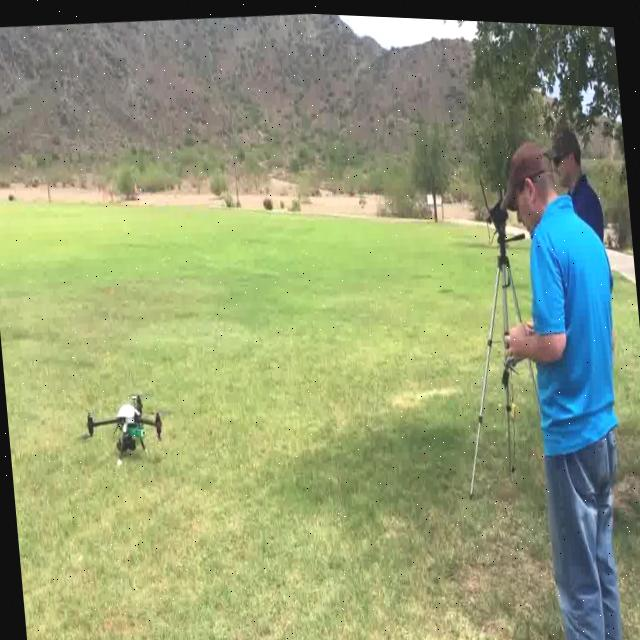drone: (36, 343, 214, 494)
